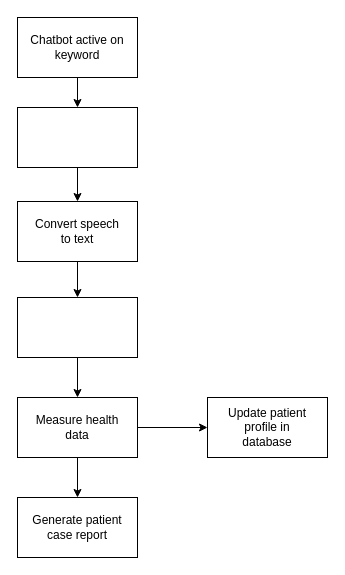
Some shapes in this 345 by 575 pixel diagram are drawn without their labels. Each missing label, with the centre of its shape:
"Extract disease information from conversation" belongs at point 77,327.
"Inquire about disease" belongs at point 77,137.
